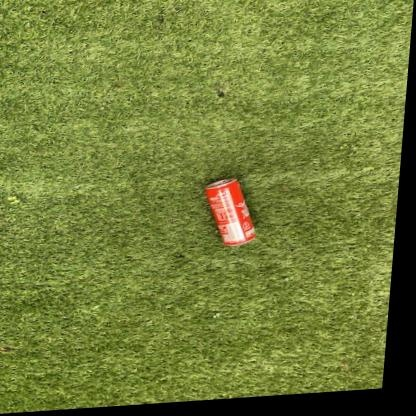trash: (205, 179, 255, 244)
